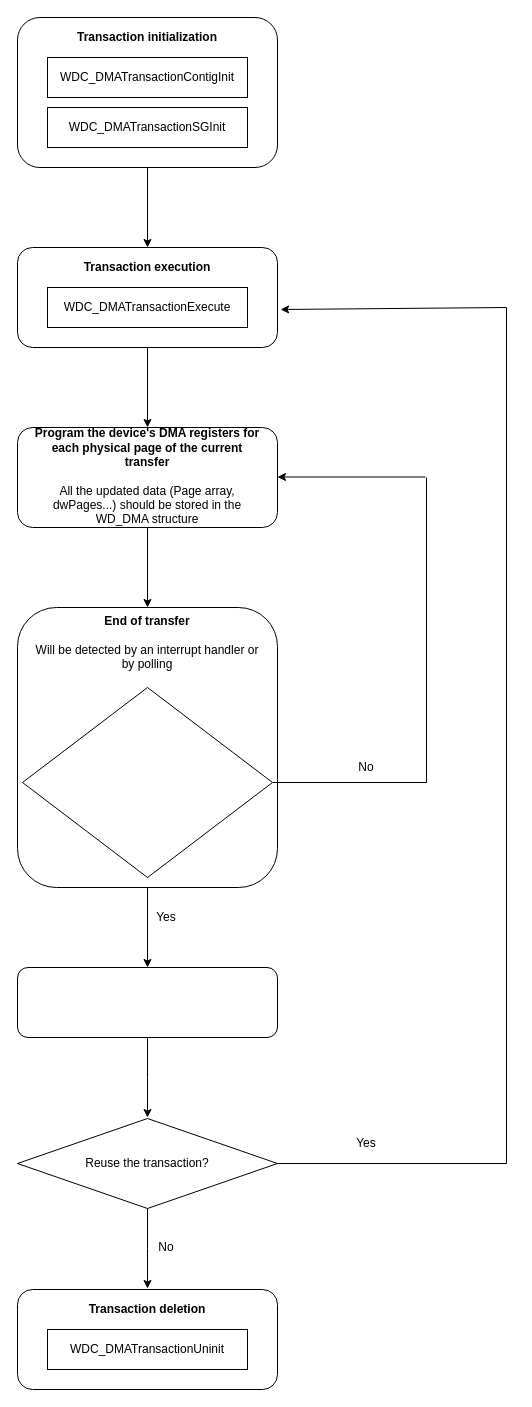
This 532x1407 diagram has some shape labels left out. Each missing label, with the centre of its shape:
"Check if transaction is complete? WDC_DMATransferCompletedAndCheck" goes at [147,782].
"End of transaction WDC_DMATransactionRelease" goes at [147,1002].
